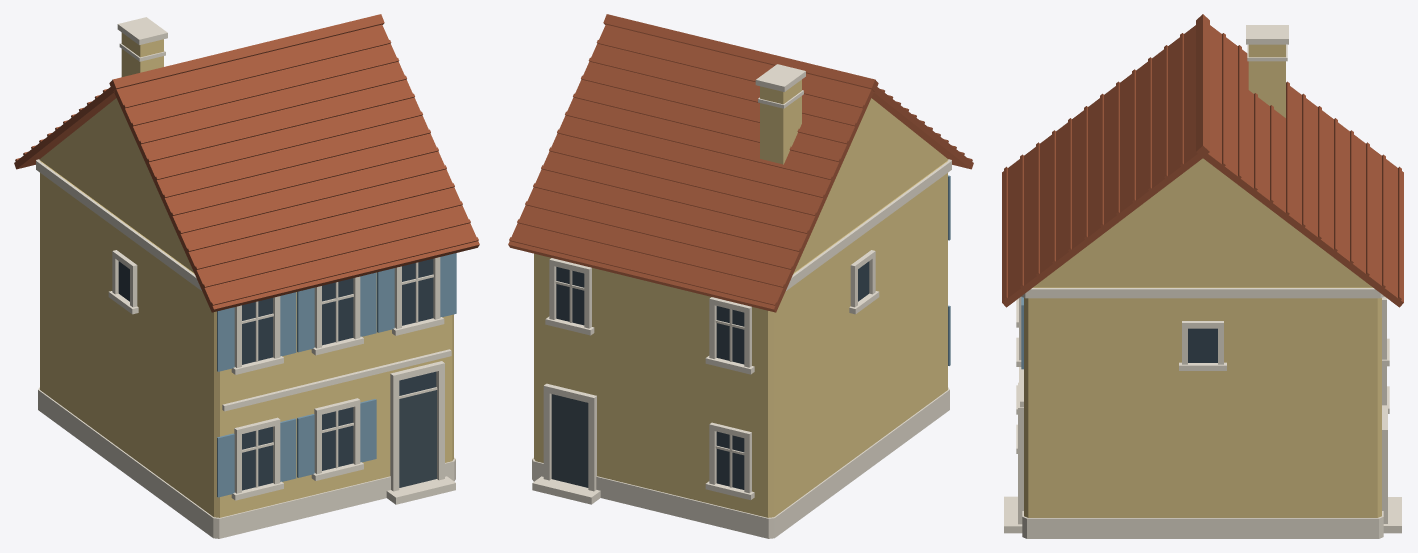
Rendered from maison-e.glb.
The picture shows the model from 3 angles, left to right: view 1: azimuth 30°, elevation 25°; view 2: azimuth 150°, elevation 25°; view 3: azimuth 270°, elevation 25°; orthographic projection.
Parts seen in each view (by area): view 1: maison-e; view 2: maison-e; view 3: maison-e.
Boxes of the visible parts, x1=… form: maison-e: x1=14, y1=14, x2=479, y2=538; maison-e: x1=508, y1=14, x2=973, y2=538; maison-e: x1=1002, y1=14, x2=1403, y2=538.
Bounding box in the file's own units: 6.26 × 9.14 × 8.08.
